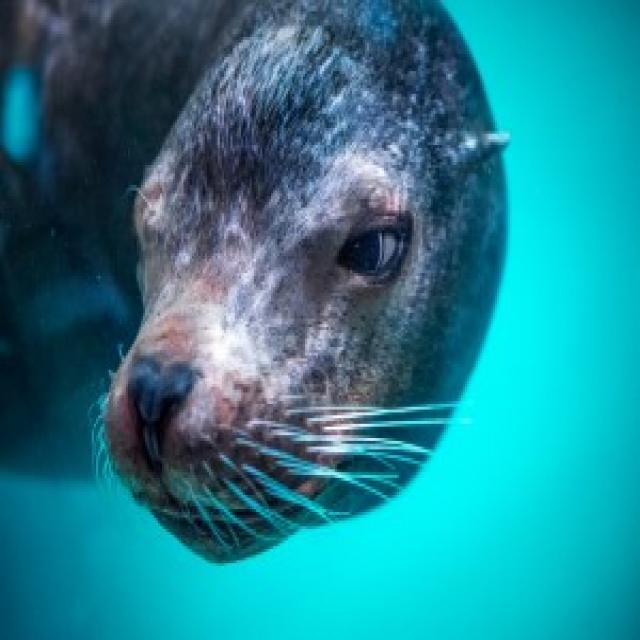Seal: (0, 0, 518, 571)
